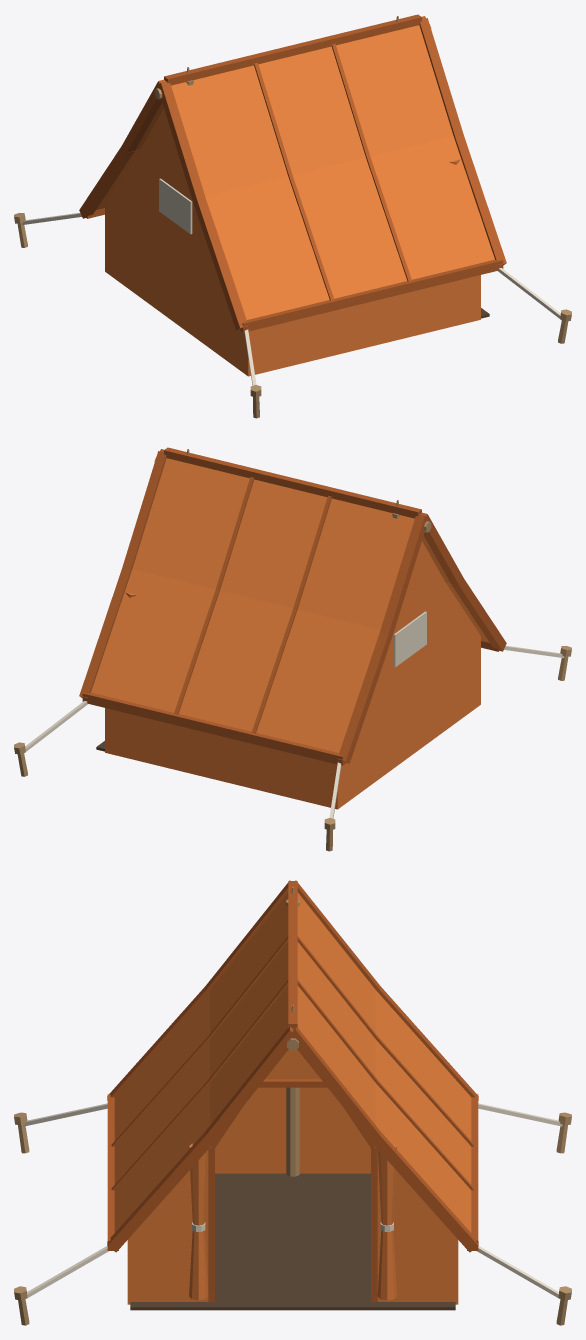
3 views of the same model, one above another, from view 1: azimuth 30°, elevation 25°; view 2: azimuth 150°, elevation 25°; view 3: azimuth 270°, elevation 25° (orthographic). The views are drawn at different scales.
Visible parts, largest first — view 1: C04_geo; view 2: C04_geo; view 3: C04_geo.
Boxes of the visible parts, left/top/right/bottom form: C04_geo: left=14, top=14, right=571, bottom=418; C04_geo: left=14, top=447, right=571, bottom=851; C04_geo: left=14, top=880, right=571, bottom=1325.
Size of the model in its own units: 3.31 by 2.5 by 4.32.
